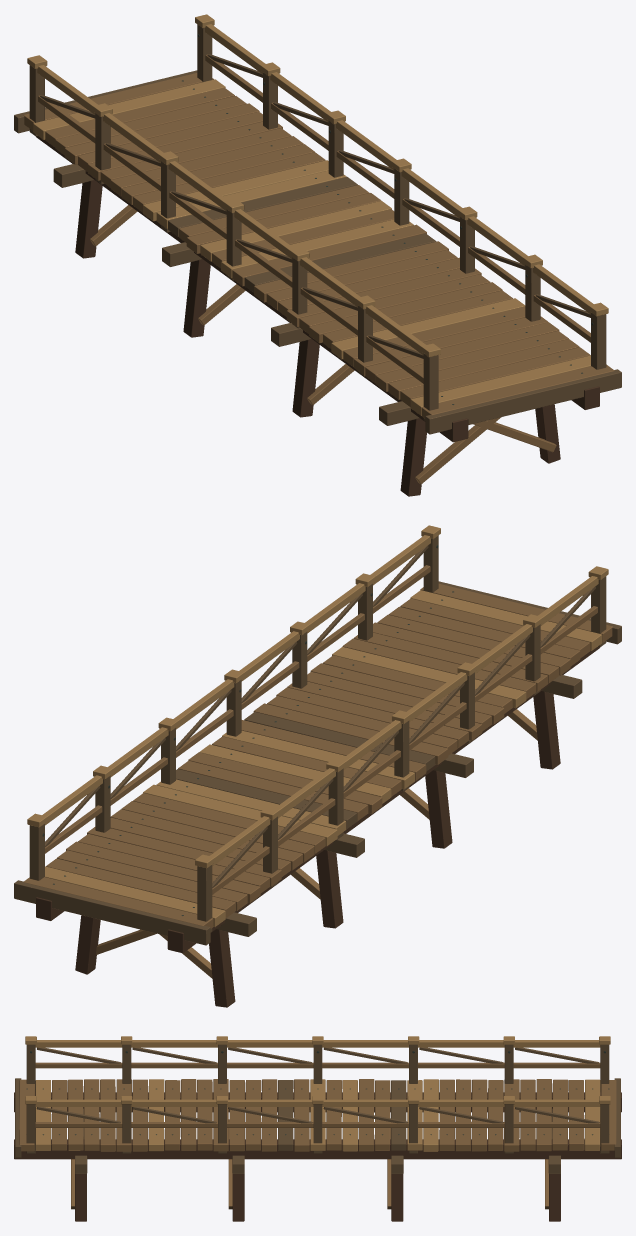
The model's file is bridge.glb.
3 renders of one model, top to bottom at view 1: azimuth 30°, elevation 25°; view 2: azimuth 150°, elevation 25°; view 3: azimuth 270°, elevation 25°, orthographic. The views are drawn at different scales.
Parts seen in each view (by area): view 1: bridge_material_bridge_oak, bridge_material_bridge_oak_dark, bridge_material_bridge_oak_light, bridge_material_timber_structure; view 2: bridge_material_bridge_oak, bridge_material_bridge_oak_dark, bridge_material_bridge_oak_light, bridge_material_timber_structure; view 3: bridge_material_bridge_oak, bridge_material_bridge_oak_light, bridge_material_bridge_oak_dark, bridge_material_timber_structure.
Boxes of the visible parts, box(x1,y1,x2,y2) form: bridge_material_bridge_oak: box(23, 54, 614, 484); bridge_material_bridge_oak_dark: box(14, 24, 621, 434); bridge_material_bridge_oak_light: box(27, 14, 608, 415); bridge_material_timber_structure: box(36, 136, 599, 496); bridge_material_bridge_oak: box(23, 565, 612, 978); bridge_material_bridge_oak_dark: box(14, 535, 621, 945); bridge_material_bridge_oak_light: box(27, 525, 608, 926); bridge_material_timber_structure: box(36, 647, 599, 1007); bridge_material_bridge_oak: box(19, 1062, 616, 1209); bridge_material_bridge_oak_light: box(25, 1036, 610, 1151); bridge_material_bridge_oak_dark: box(15, 1044, 620, 1173); bridge_material_timber_structure: box(14, 1092, 621, 1221).
Bounding box in the file's own units: 3.85 × 3.29 × 14.24.
